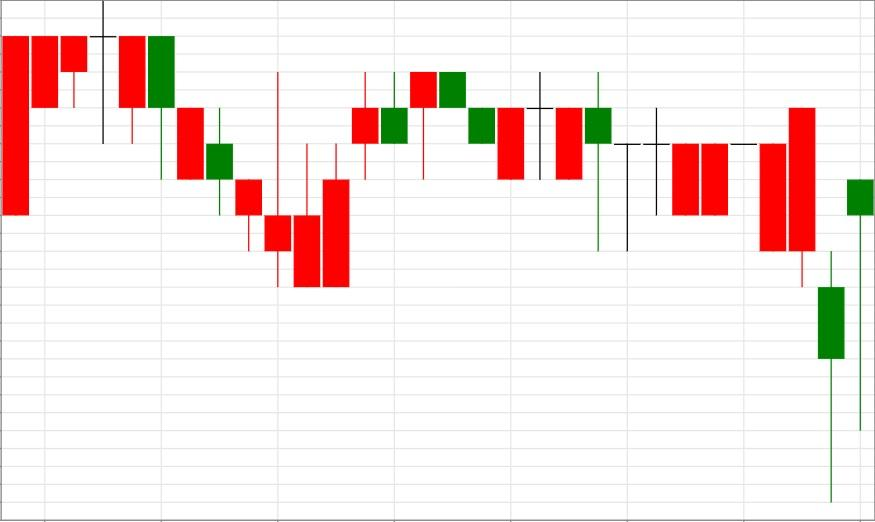bearish_engulfing_fall: (1, 0, 175, 216)
hanging_man_fall: (293, 70, 437, 288)
